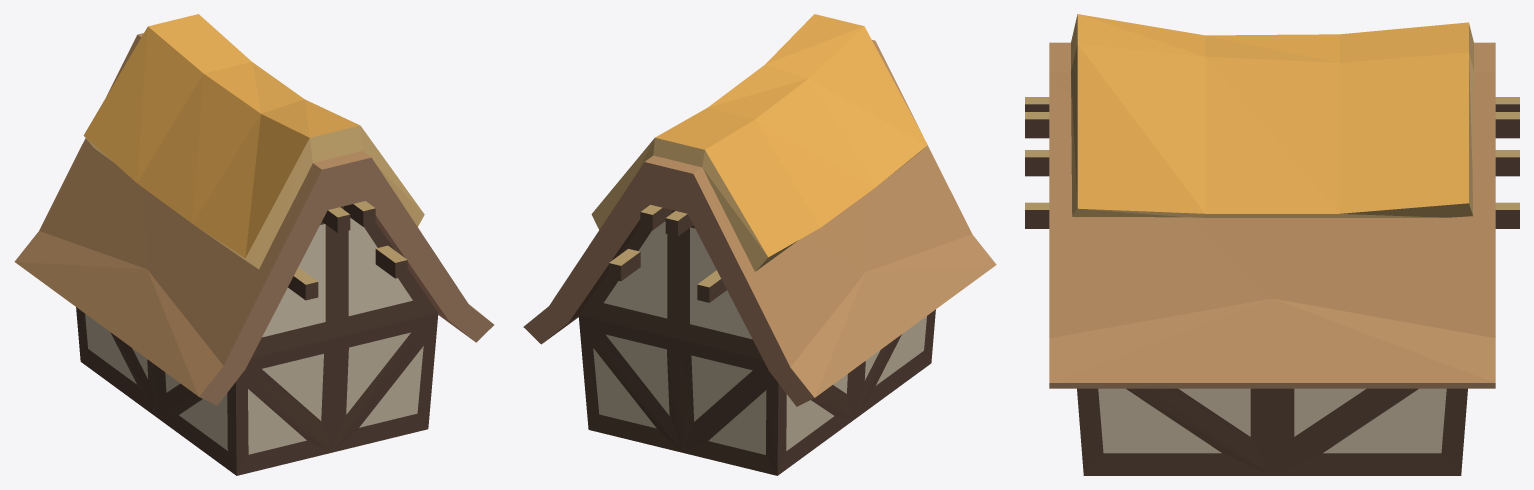
File: TB_Bd_Room_Big.FBX
The picture shows the model from 3 angles, left to right: view 1: azimuth 30°, elevation 25°; view 2: azimuth 150°, elevation 25°; view 3: azimuth 270°, elevation 25°; orthographic projection. The views are drawn at different scales.
Visible parts, largest first — view 1: TB_Bd_Room_Big; view 2: TB_Bd_Room_Big; view 3: TB_Bd_Room_Big.
Boxes of the visible parts, left/top/right/bottom form: TB_Bd_Room_Big: left=14, top=14, right=494, bottom=475; TB_Bd_Room_Big: left=523, top=14, right=996, bottom=475; TB_Bd_Room_Big: left=1025, top=14, right=1519, bottom=475.
Bounding box in the file's own units: 4.47 × 4.66 × 5.35.
